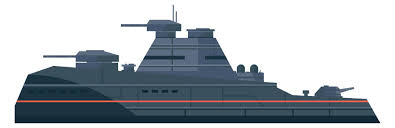Ship: (14, 19, 382, 124)
